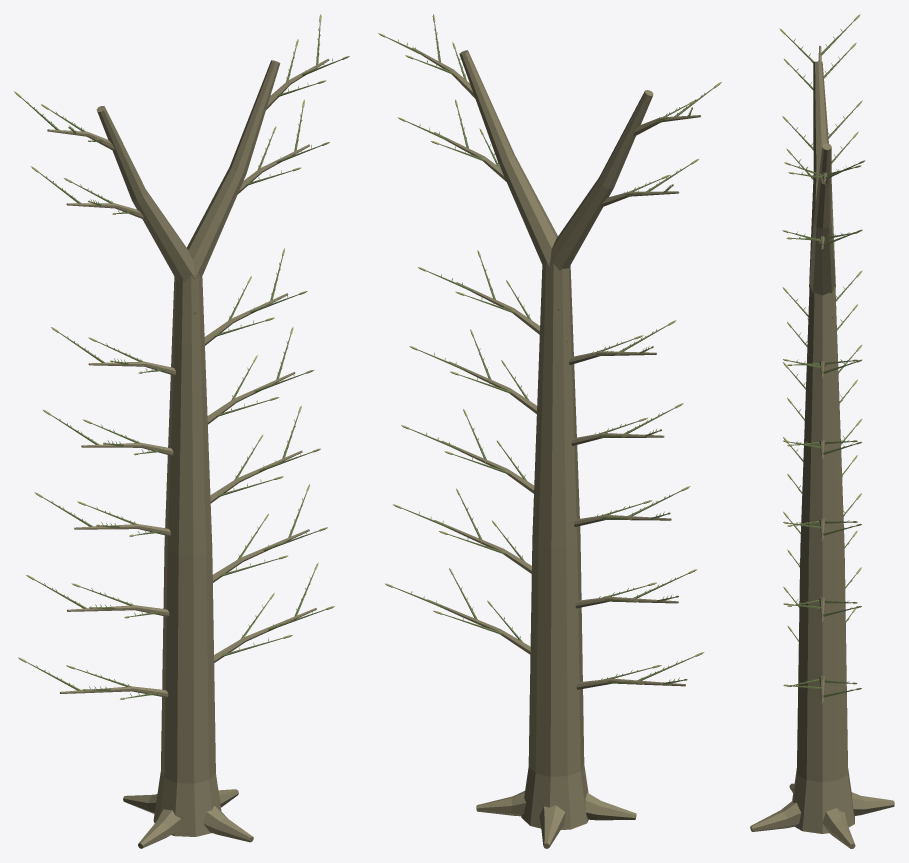
3 views of the same model, side by side, from view 1: azimuth 30°, elevation 25°; view 2: azimuth 150°, elevation 25°; view 3: azimuth 270°, elevation 25° (orthographic). The views are drawn at different scales.
Parts seen in each view (by area): view 1: opposite-row-compact-lycopsid-scaffold, small-persistent-microphylls; view 2: opposite-row-compact-lycopsid-scaffold, small-persistent-microphylls; view 3: opposite-row-compact-lycopsid-scaffold, small-persistent-microphylls.
Boxes of the visible parts, x1,y1,x2,y2 form: opposite-row-compact-lycopsid-scaffold: (14, 14, 349, 848); small-persistent-microphylls: (27, 28, 332, 696); opposite-row-compact-lycopsid-scaffold: (378, 14, 721, 848); small-persistent-microphylls: (392, 29, 704, 683); opposite-row-compact-lycopsid-scaffold: (750, 14, 894, 848); small-persistent-microphylls: (794, 26, 854, 694).
Size of the model in its own units: 1.93 by 4.51 by 0.8061.
